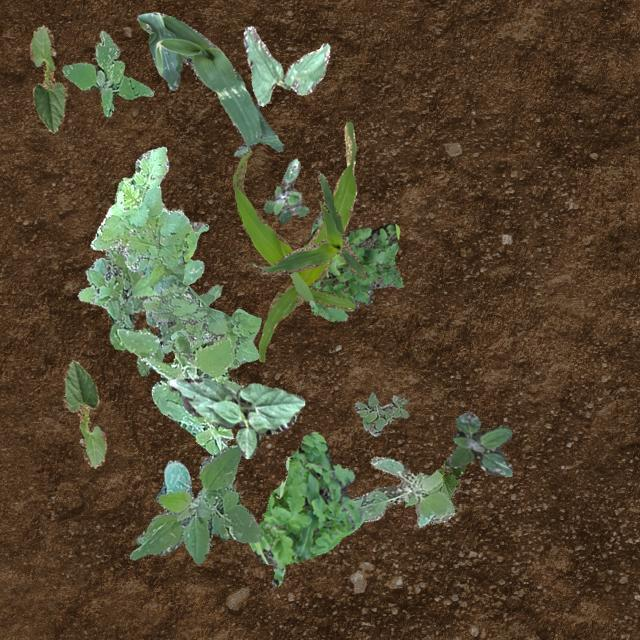crop: (232, 120, 356, 360), (136, 11, 284, 156), (128, 443, 260, 562), (258, 172, 368, 278), (166, 376, 304, 458), (242, 24, 328, 104), (61, 358, 106, 468), (28, 23, 66, 132), (436, 458, 466, 500)
weed: (90, 146, 260, 367), (76, 243, 220, 374), (248, 430, 364, 584), (112, 326, 242, 454), (308, 210, 402, 320), (61, 30, 152, 116), (351, 456, 454, 528), (130, 258, 202, 326), (446, 410, 512, 476), (262, 158, 308, 222), (352, 392, 408, 434)
